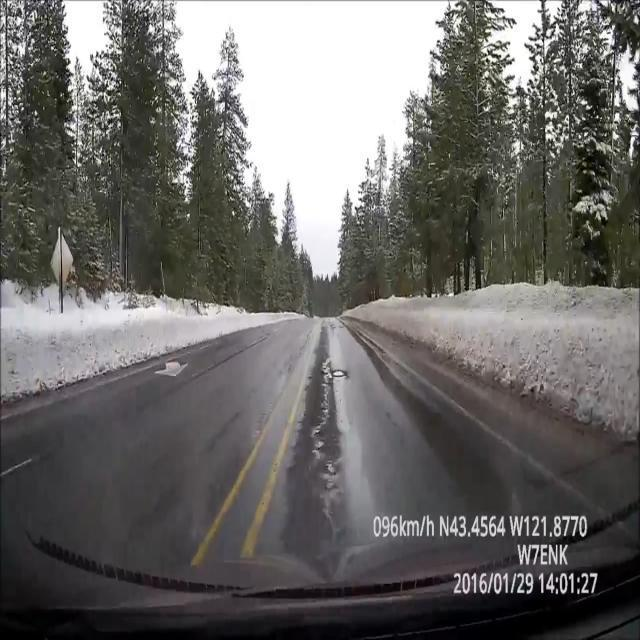Buraco: (329, 369, 349, 378)
